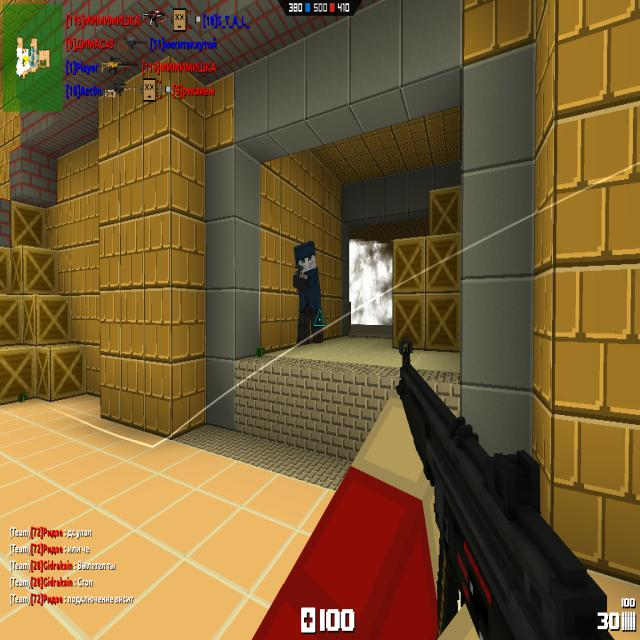enemy: (294, 240, 323, 345)
